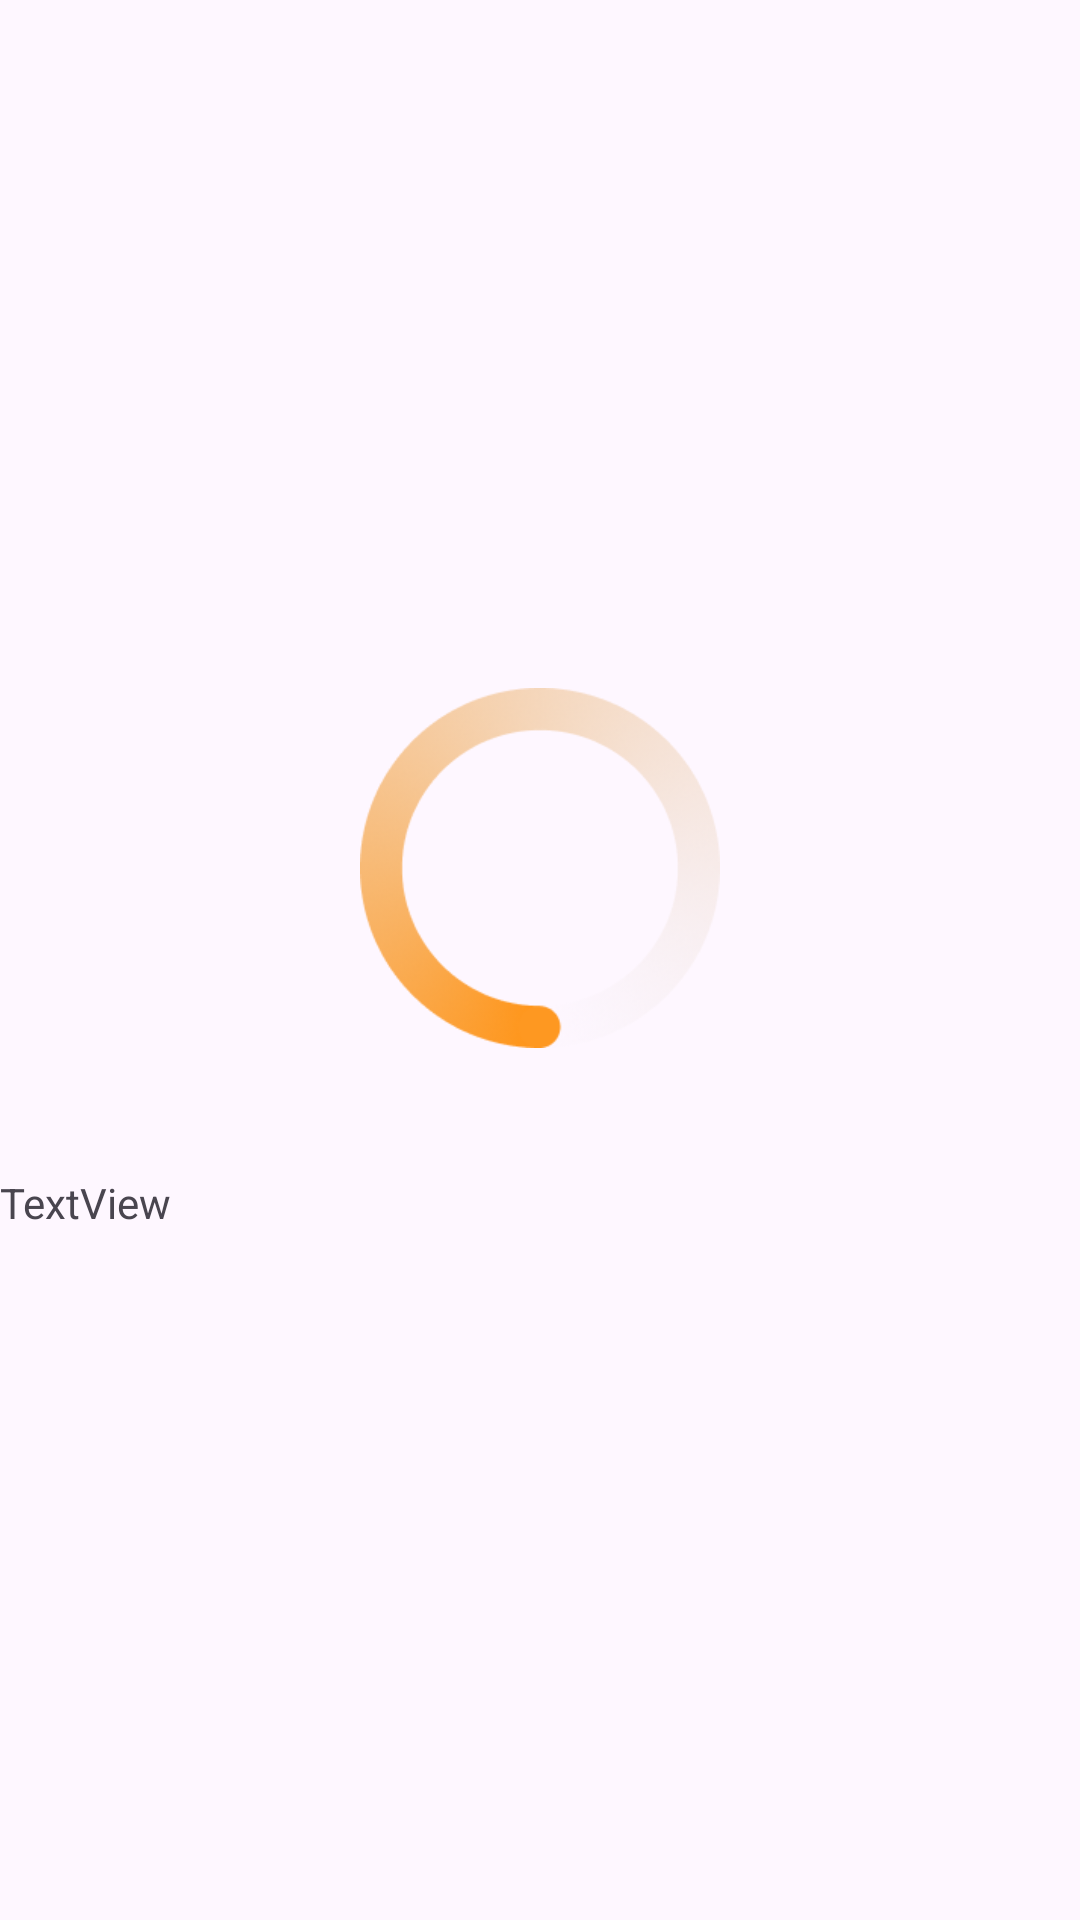

Point at icon controls on the screen. Image size 1080×1920, points as (x,y).
circle: (539,868)
